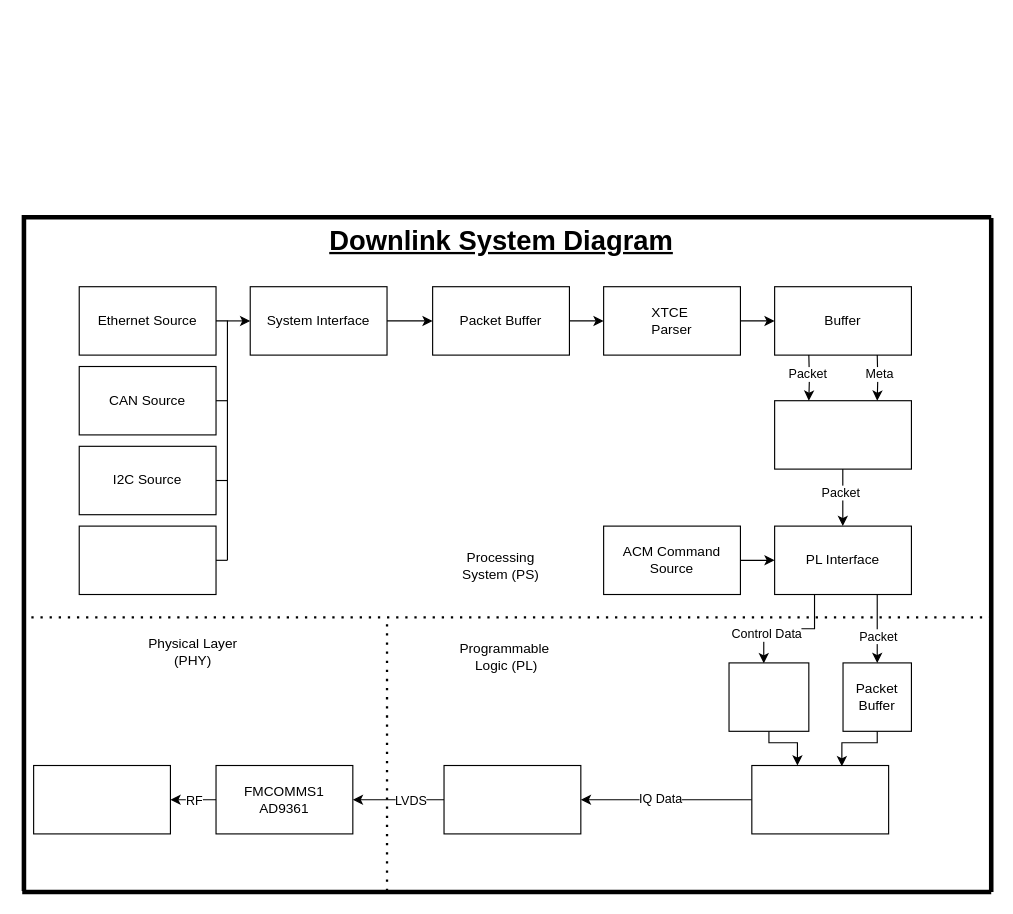
The diagram is 1013 pixels wide and 914 high, and some of its shapes have lost their labels. The shapes that lost their labels are listed below. From the top down, each one's box as (x1, y1, x2, y2) in pixels, then its label:
(773, 400, 911, 469): Scheduler
(78, 525, 216, 595): Linux IPC Source
(728, 662, 809, 731): Control Register
(32, 764, 170, 834): RF OUT
(443, 764, 581, 834): AD936x Controller
(751, 764, 889, 834): DVB-S2 Modulation
